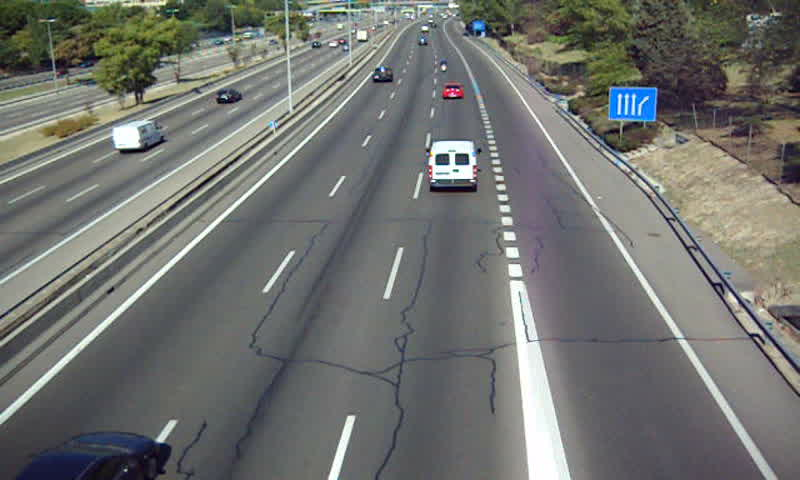car: (442, 82, 465, 100), (372, 66, 394, 84)
motorcycle: (437, 59, 450, 72)
van: (428, 140, 479, 187)
